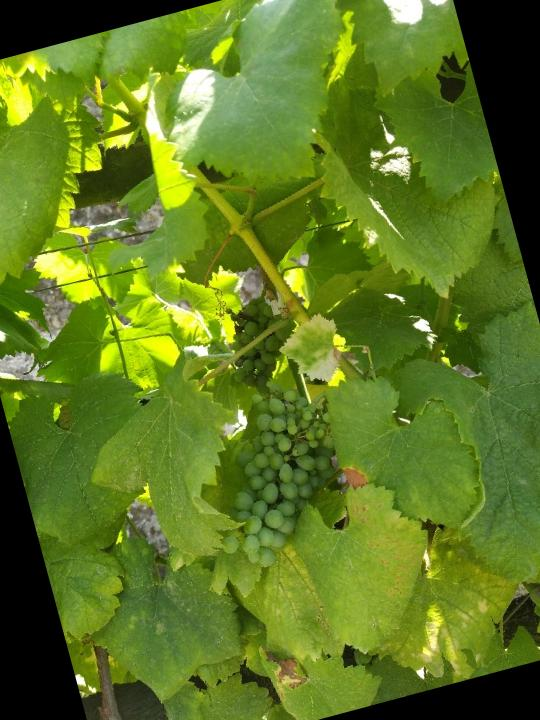grape: (182, 374, 366, 580), (212, 286, 313, 399)
